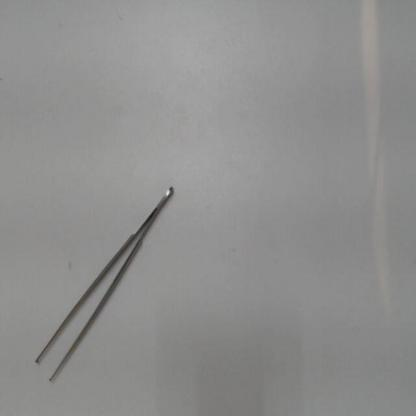Gillies Toothed Dissector: (31, 178, 176, 387)
